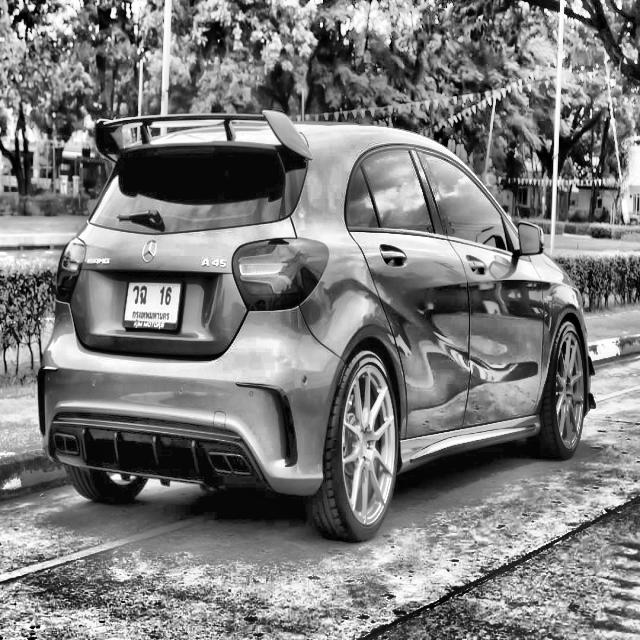license-plate: (120, 274, 185, 334)
